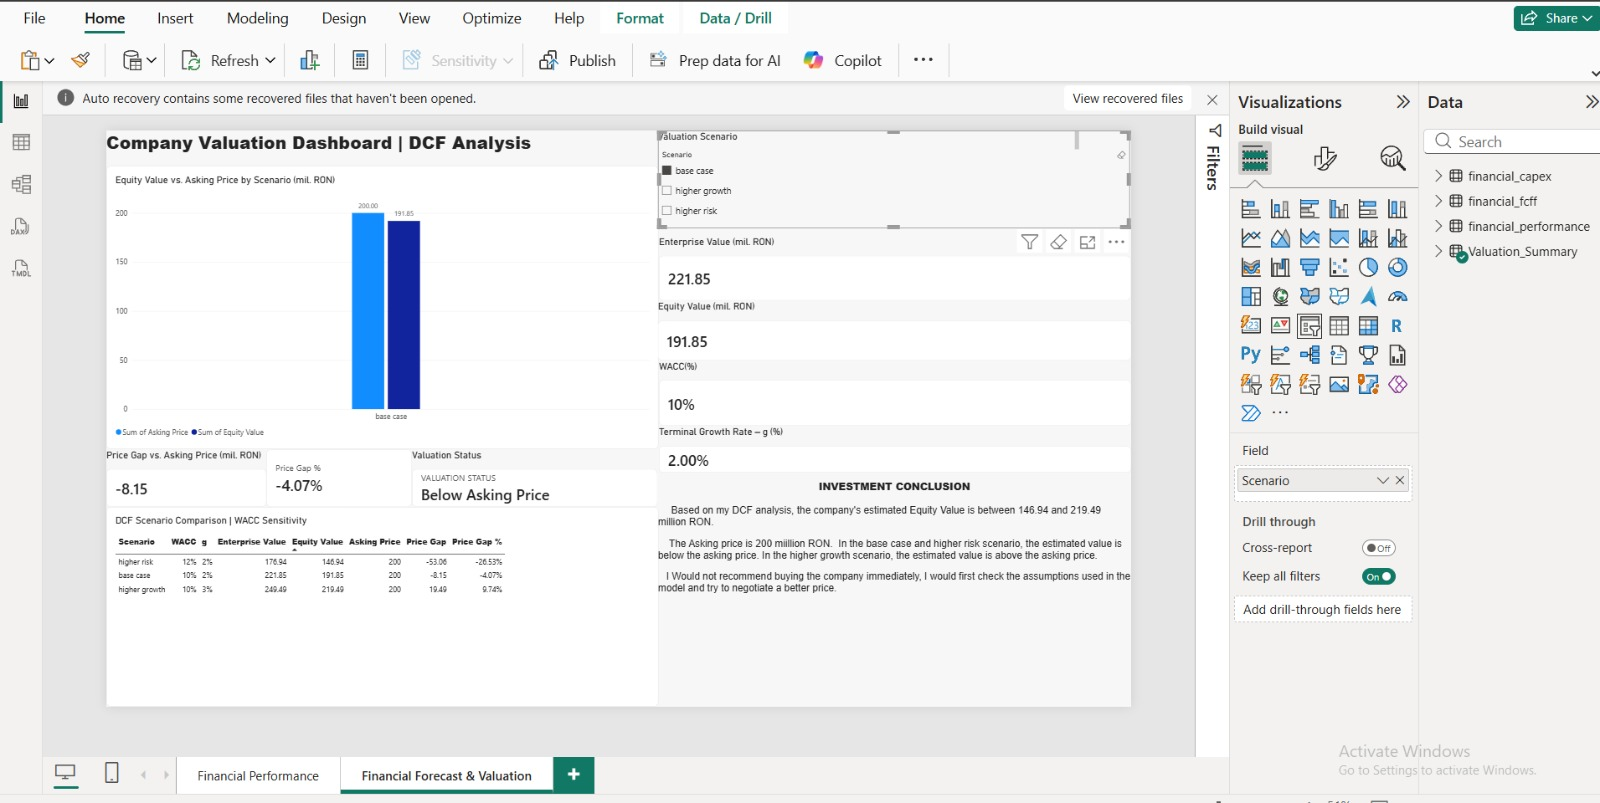

The dashboard page shown, as its layout file describes it:
{"tool":"powerbi","page":{"name":"Financial Forecast & Valuation","canvas":[1920,1080],"ordinal":1},"visuals":[{"type":"textbox","box":[0,0,1822.4,46.9],"z":0},{"type":"clusteredColumnChart","title":"Equity Value vs. Asking Price by Scenario (mil. RON)","fields":{"Category":["Valuation_Summary.Scenario"],"Y":["Sum(Valuation_Summary.Asking Price)","Sum(Valuation_Summary.Equity Value)"]},"box":[0,67.3,1034.7,530.6],"z":1000},{"type":"slicer","title":"Valuation Scenario","fields":{"Values":["Valuation_Summary.Scenario"]},"box":[1032.6,0,884.8,182.6],"z":2000},{"type":"cardVisual","title":"Enterprise Value (mil. RON)","fields":{"Data":["Sum(Valuation_Summary.Enterprise Value)"]},"box":[1034.8,197.8,884.8,121.7],"z":3000},{"type":"cardVisual","title":"Equity Value (mil. RON)","fields":{"Data":["Sum(Valuation_Summary.Equity Value)"]},"box":[1032.6,319.6,887.8,112.2],"z":4000},{"type":"cardVisual","title":"Price Gap vs. Asking Price (mil. RON)","fields":{"Data":["Valuation_Summary.Price Gap"]},"box":[0,598,300,108],"z":5000},{"type":"cardVisual","fields":{"Data":["Valuation_Summary.Price Gap %"]},"box":[300,598,272,108],"z":6000},{"type":"cardVisual","title":"WACC(%)","fields":{"Data":["Sum(Valuation_Summary.WACC)"]},"box":[1034.8,430.4,885.7,122.4],"z":7000},{"type":"cardVisual","title":"Terminal Growth Rate – g (%)","fields":{"Data":["Sum(Valuation_Summary.g)"]},"box":[1034.8,554.3,885.7,87.8],"z":8000},{"type":"cardVisual","title":"Valuation Status","fields":{"Data":["Valuation_Summary.VALUATION STATUS"]},"box":[572,598,460,108],"z":9000},{"type":"tableEx","title":"DCF Scenario Comparison | WACC Sensitivity","fields":{"Values":["Valuation_Summary.Scenario","Sum(Valuation_Summary.WACC)","Sum(Valuation_Summary.g)","Sum(Valuation_Summary.Enterprise Value)","Sum(Valuation_Summary.Equity Value)","Sum(Valuation_Summary.Asking Price)","Valuation_Summary.Price Gap","Valuation_Summary.Price Gap %"]},"box":[0,706,1034,374],"z":10000},{"type":"textbox","box":[1034,652,886,428],"z":10001}]}

Visuals, with their boxes on the page's 1920x1080 design canvas (x1, y1, x2, y2). These are canvas units, not pixel positions in the 1600x803 screenshot, which may show the page scaled, cropped or inside an application window:
textbox: box=[0, 0, 1822, 47]
"Equity Value vs. Asking Price by Scenario (mil. RON)" clusteredColumnChart: box=[0, 67, 1035, 598]
"Valuation Scenario" slicer: box=[1033, 0, 1917, 183]
"Enterprise Value (mil. RON)" cardVisual: box=[1035, 198, 1920, 320]
"Equity Value (mil. RON)" cardVisual: box=[1033, 320, 1920, 432]
"Price Gap vs. Asking Price (mil. RON)" cardVisual: box=[0, 598, 300, 706]
cardVisual - Valuation_Summary.Price Gap %: box=[300, 598, 572, 706]
"WACC(%)" cardVisual: box=[1035, 430, 1920, 553]
"Terminal Growth Rate – g (%)" cardVisual: box=[1035, 554, 1920, 642]
"Valuation Status" cardVisual: box=[572, 598, 1032, 706]
"DCF Scenario Comparison | WACC Sensitivity" tableEx: box=[0, 706, 1034, 1080]
textbox: box=[1034, 652, 1920, 1080]
